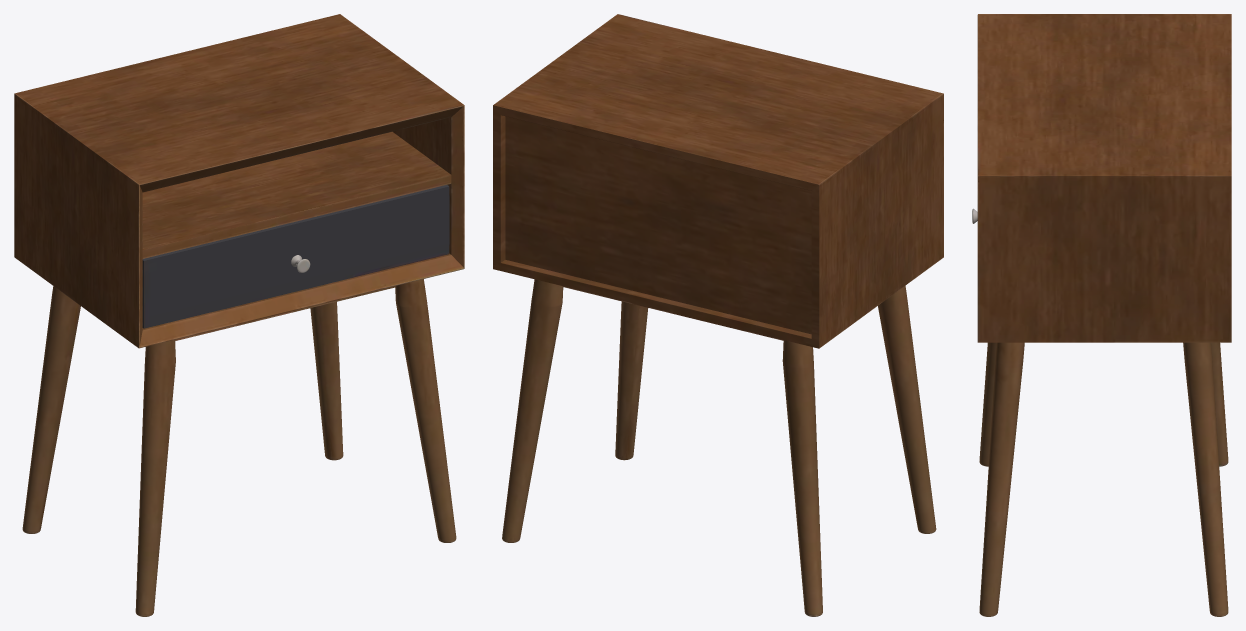
The model's file is abo-B07B7J84KR.glb.
3 views of the same model, side by side, from view 1: azimuth 30°, elevation 25°; view 2: azimuth 150°, elevation 25°; view 3: azimuth 270°, elevation 25° (orthographic).
Size of the model in its own units: 0.454 by 0.58 by 0.307.
1 material, 1 textured.
